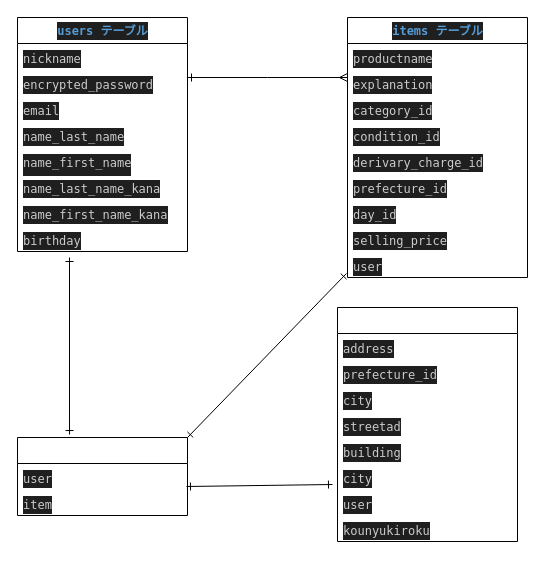
The diagram is 545 pixels wide and 562 high, and some of its shapes have lost their labels. Each missing label, with the box of its shape:
address テーブル: (336, 306, 518, 542)
kounyukiroku テーブル: (16, 436, 188, 516)
